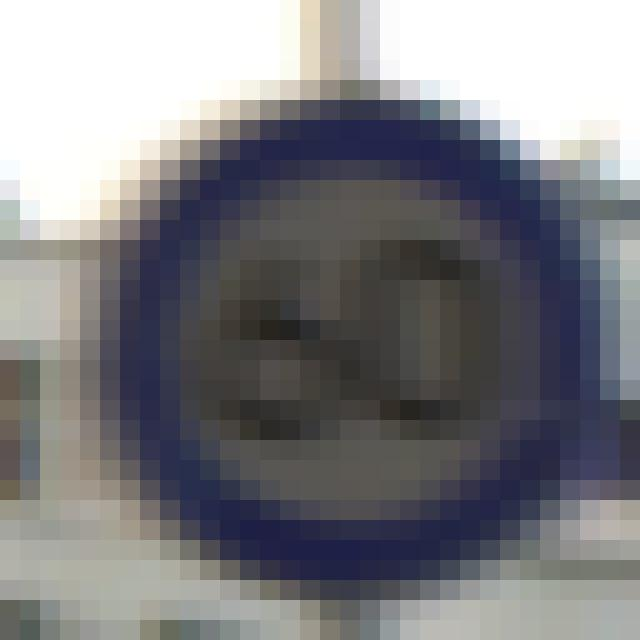SPEED-LIMIT-60: (124, 88, 613, 619)
